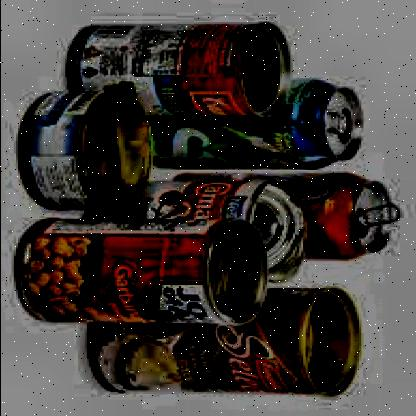Can: (83, 286, 366, 396), (13, 217, 269, 325), (65, 18, 293, 118), (15, 88, 156, 212)
